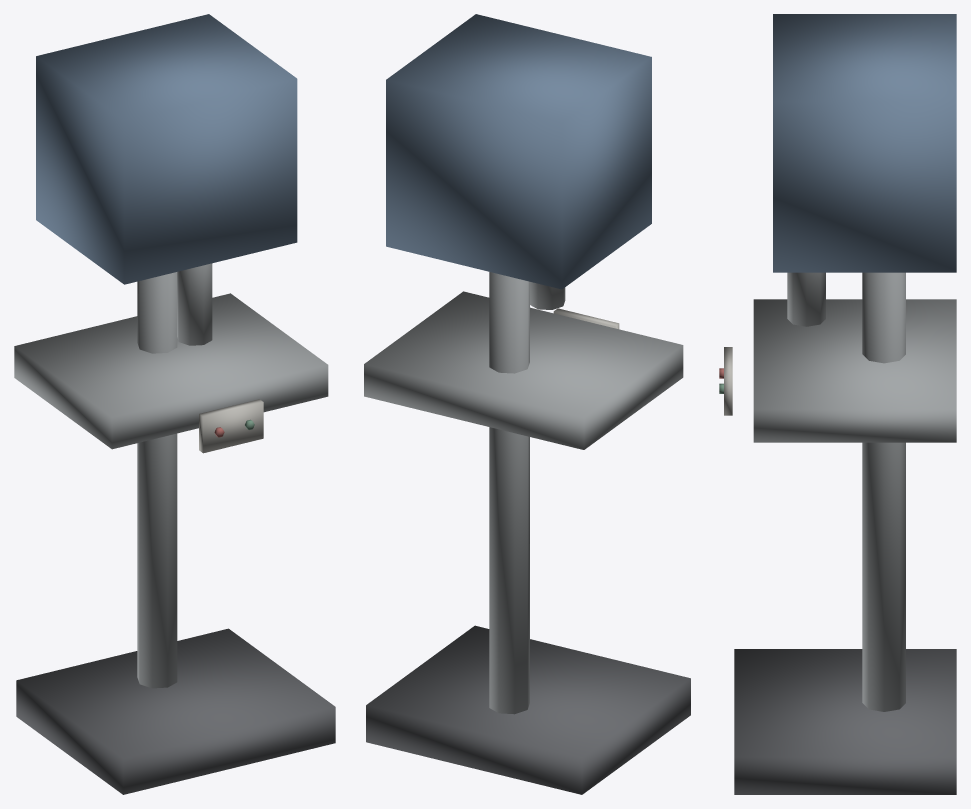
Rendered from drill_press__compact.glb.
3 renders of one model, left to right at view 1: azimuth 30°, elevation 25°; view 2: azimuth 150°, elevation 25°; view 3: azimuth 270°, elevation 25°, orthographic. The views are drawn at different scales.
Parts seen in each view (by area): view 1: world; view 2: world; view 3: world.
Boxes of the visible parts, <box> form: world: <box>14,14,335,794</box>; world: <box>364,14,690,794</box>; world: <box>719,14,956,794</box>.
Bounding box in the file's own units: 0.462 × 1.34 × 0.4223.
